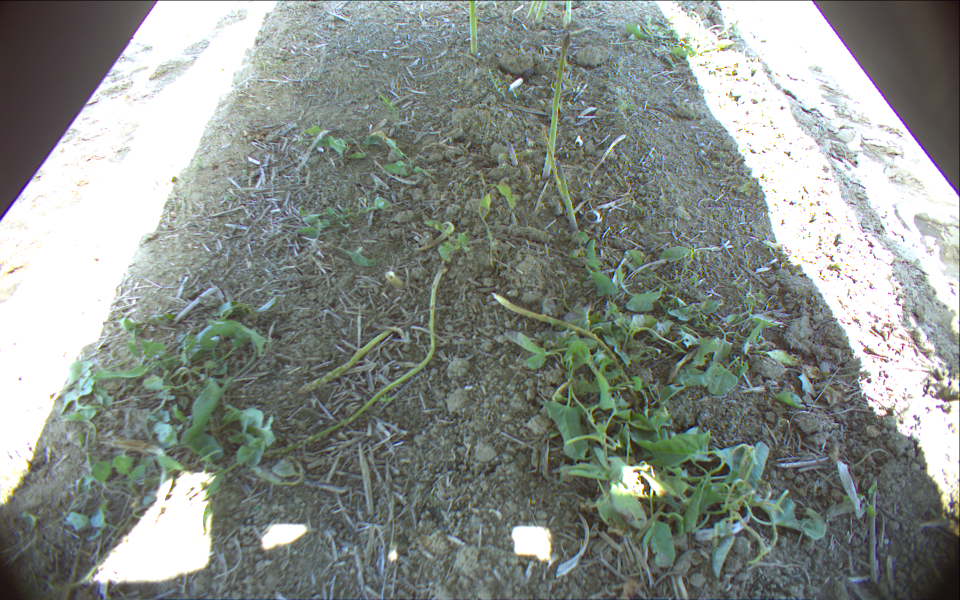aspa: (263, 264, 444, 460), (494, 295, 638, 401), (300, 330, 392, 393), (541, 34, 571, 177), (558, 160, 579, 233), (542, 130, 561, 198), (469, 1, 481, 56), (507, 142, 518, 167), (537, 1, 548, 22), (564, 1, 574, 22), (526, 1, 536, 19)
